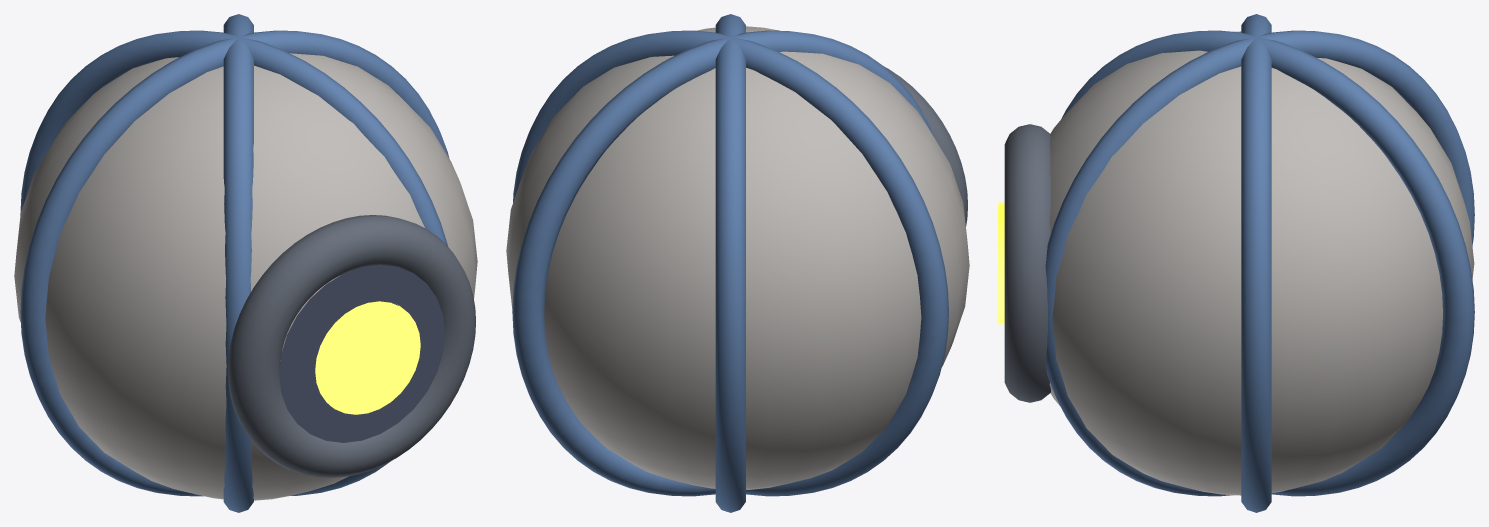
The model's file is drone_apis_6.glb.
3 views of the same model, side by side, from view 1: azimuth 30°, elevation 25°; view 2: azimuth 150°, elevation 25°; view 3: azimuth 270°, elevation 25° (orthographic).
Visible parts, largest first — view 1: drone_apis_6; view 2: drone_apis_6; view 3: drone_apis_6.
Part boxes in pixels (<box>): drone_apis_6: <box>14,14,477,512</box>; drone_apis_6: <box>506,14,969,512</box>; drone_apis_6: <box>998,14,1474,512</box>.
Bounding box in the file's own units: 17.2 × 17.2 × 16.42.
